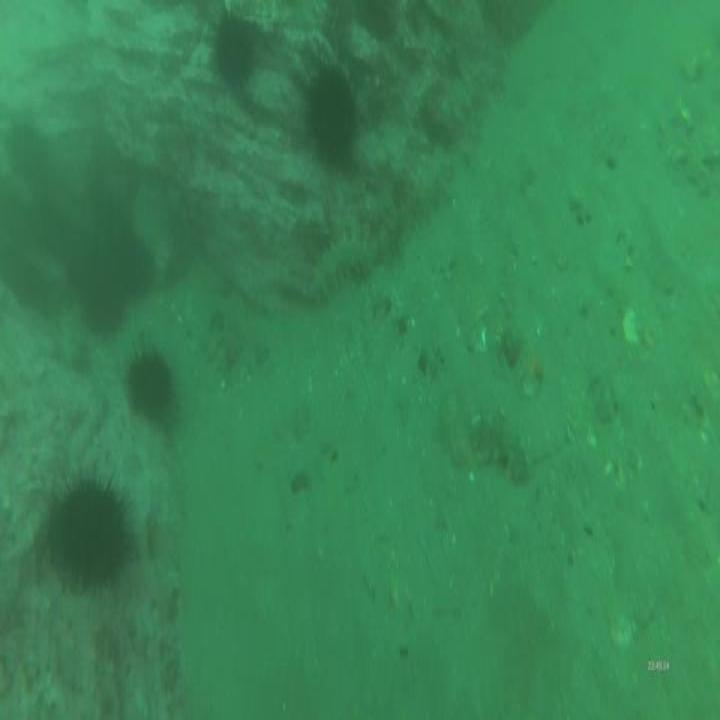echinus: (44, 471, 136, 596), (301, 60, 362, 176), (209, 12, 262, 98), (120, 348, 177, 425), (78, 254, 125, 338), (5, 112, 50, 194), (111, 231, 156, 311)
holothurian: (304, 227, 377, 313), (467, 405, 535, 487), (430, 53, 494, 135), (395, 142, 454, 228)
